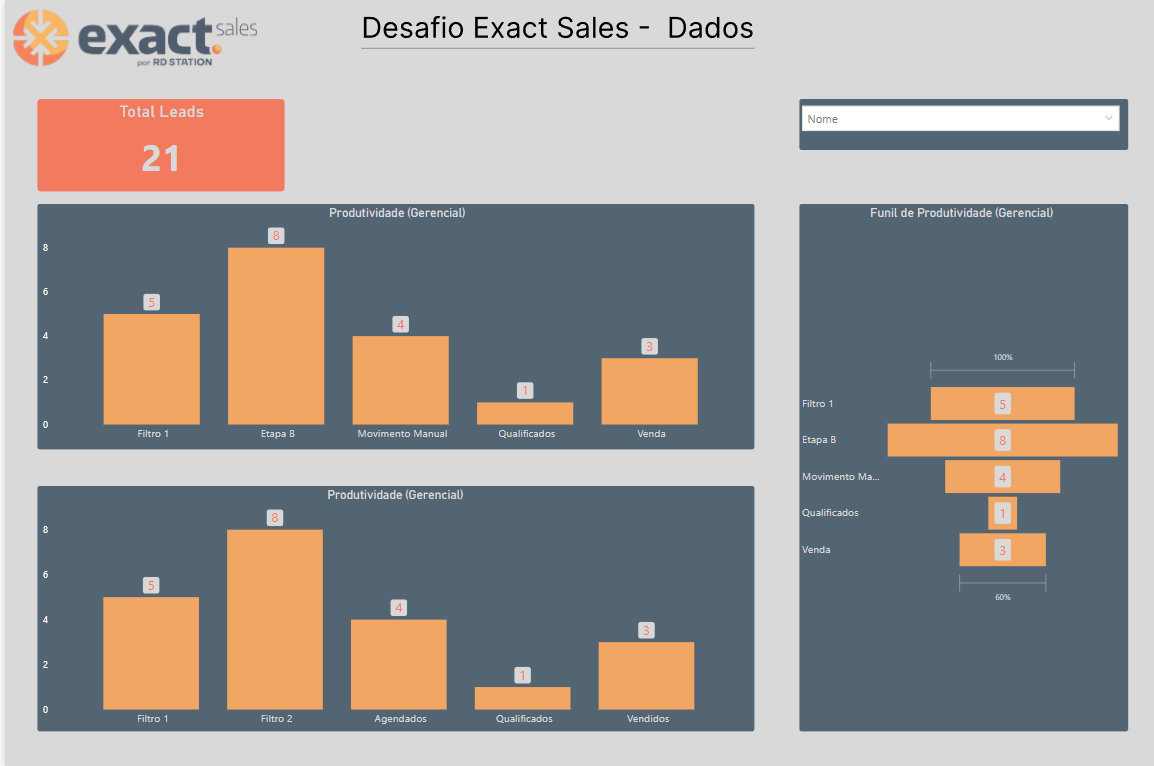

The dashboard page shown, as its layout file describes it:
{"tool":"powerbi","page":{"name":"Página 1","canvas":[1920,1280],"ordinal":0},"visuals":[{"type":"clusteredColumnChart","title":"Produtividade (Gerencial)","fields":{"Category":["df.stage"],"Y":["df.Leads"]},"box":[57.5,342.5,1190,401.2],"z":0},{"type":"clusteredColumnChart","title":"Produtividade (Gerencial)","fields":{"Y":["df.Leads"],"Category":["df.NovoNome"]},"box":[57.5,813.8,1183.8,406.2],"z":1000},{"type":"funnel","title":"Funil de Produtividade (Gerencial)","fields":{"Category":["df.stage"],"Y":["df.Leads"]},"box":[1323.8,342.5,541.2,877.5],"z":2000},{"type":"card","title":"Total Leads","fields":{"Values":["df.Leads"]},"box":[57.5,168.8,406.2,150],"z":2001},{"type":"SmartFilterBySQLBI1458262140625","fields":{"Values":["df.name_lastname"]},"box":[1323.8,168.8,541.2,150],"z":2002}]}

Visuals, with their boxes in screenshot pixels (x1, y1, x2, y2), scaled from the page's 1920x1280 canvas onto the 1154x766 screenshot:
"Produtividade (Gerencial)" clusteredColumnChart: select_region(35, 205, 750, 445)
"Produtividade (Gerencial)" clusteredColumnChart: select_region(35, 487, 746, 730)
"Funil de Produtividade (Gerencial)" funnel: select_region(796, 205, 1121, 730)
"Total Leads" card: select_region(35, 101, 279, 191)
SmartFilterBySQLBI1458262140625 - df.name_lastname: select_region(796, 101, 1121, 191)
